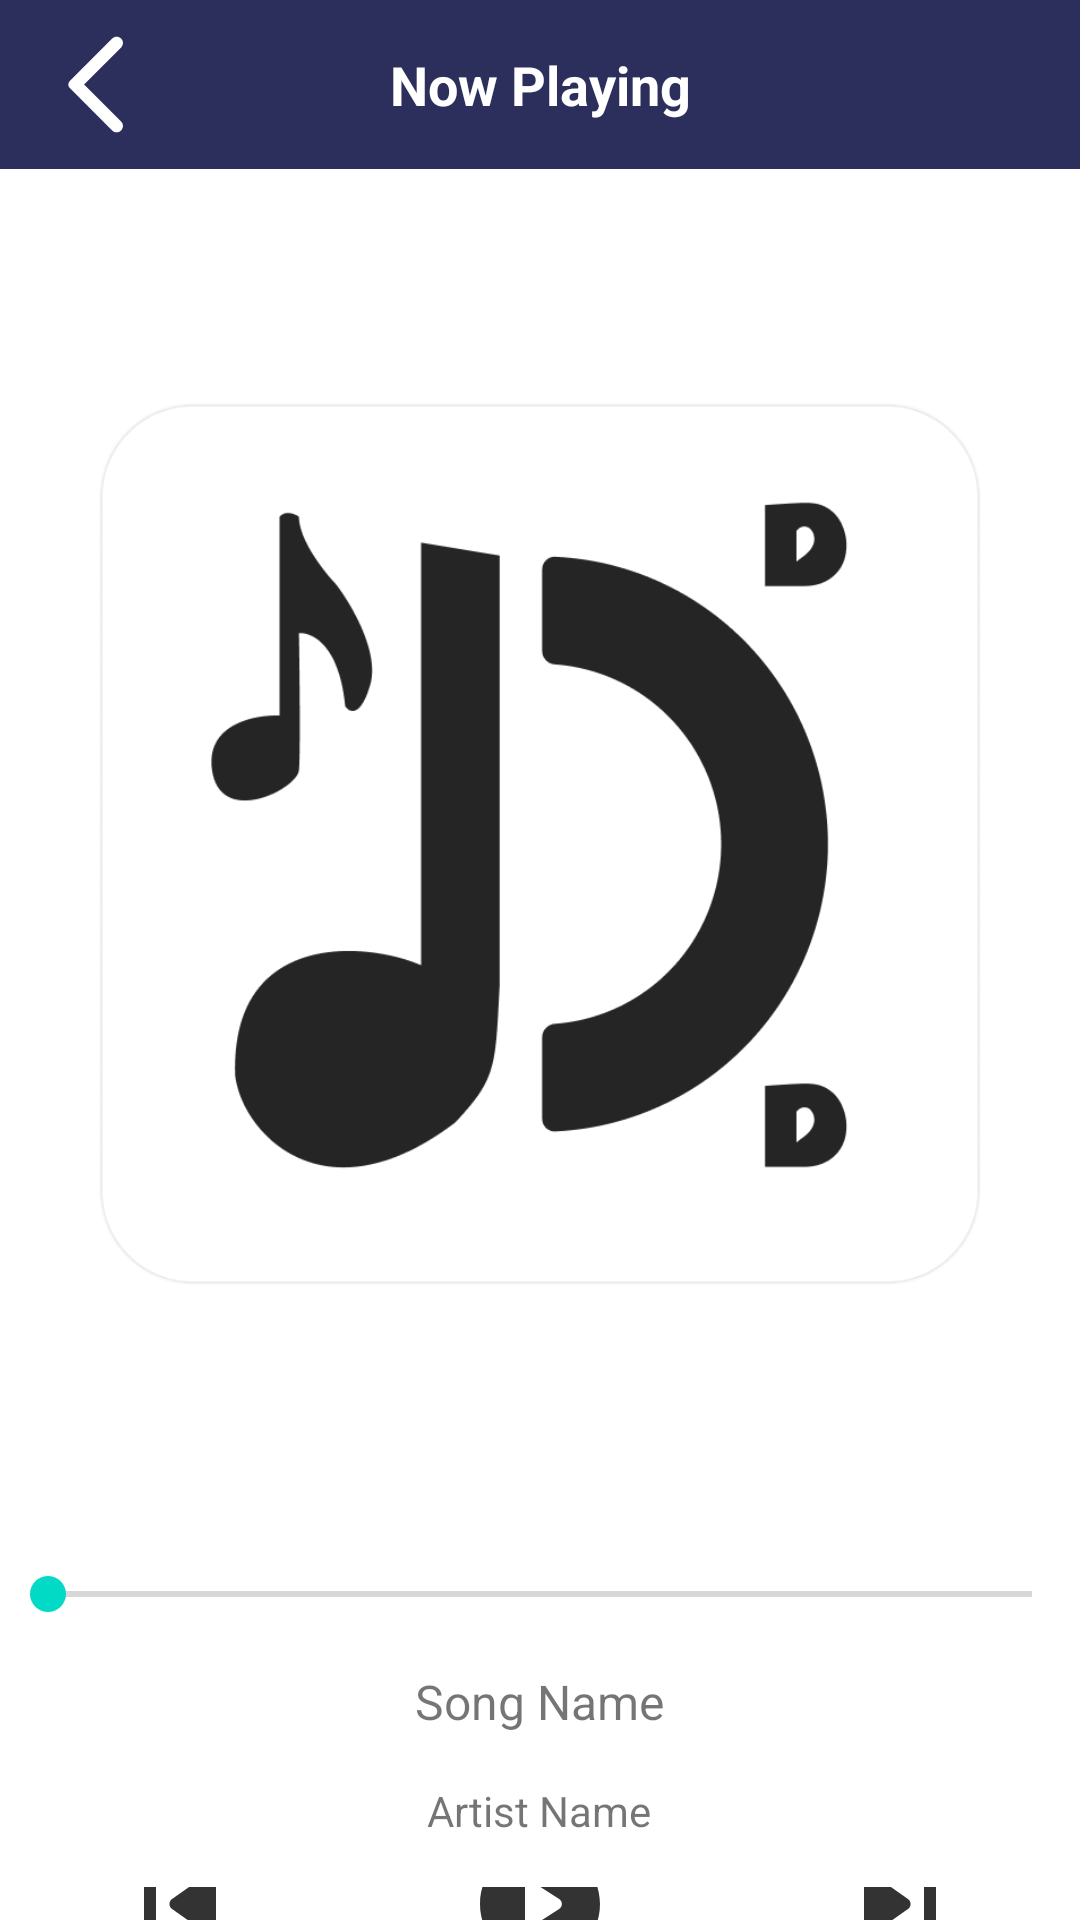

Icon bounding boxes for this 1080px×1920px phone screenshot, format detection(x1, y1, x2, y2):
Back: detection(68, 36, 123, 133)
